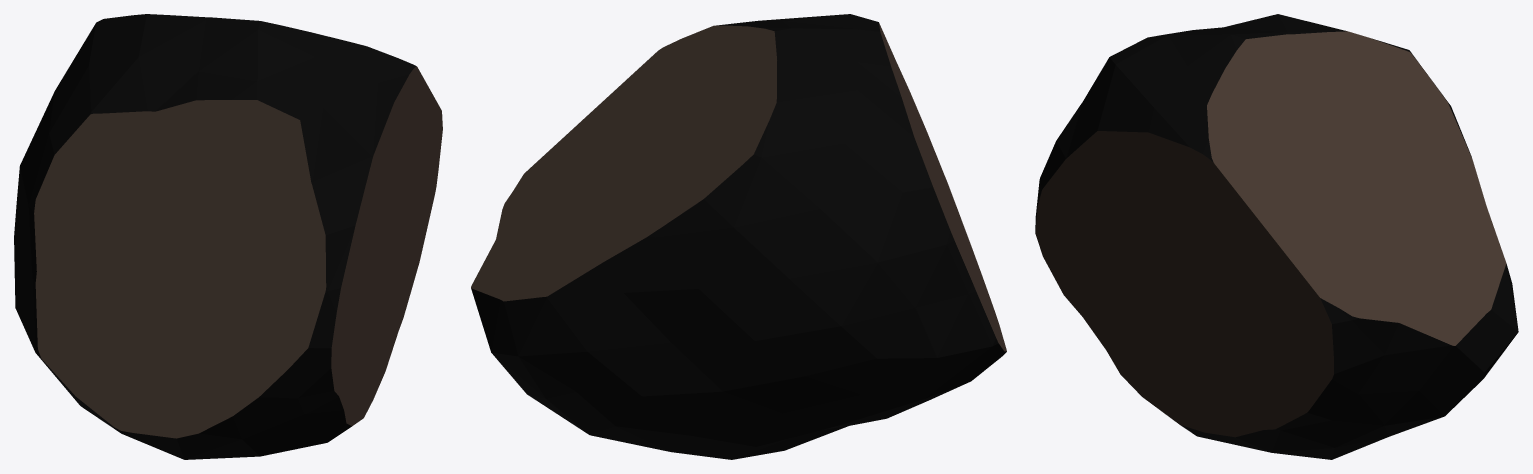
Rendered from DISASTER_02_MeteorFragment.obj.
The picture shows the model from 3 angles, left to right: view 1: azimuth 30°, elevation 25°; view 2: azimuth 150°, elevation 25°; view 3: azimuth 270°, elevation 25°; orthographic projection. The views are drawn at different scales.
Parts seen in each view (by area): view 1: DISASTER_02_MeteorFragment_Fragment; view 2: DISASTER_02_MeteorFragment_Fragment; view 3: DISASTER_02_MeteorFragment_Fragment.
Part boxes in pixels (x1,y1,x2,y2): DISASTER_02_MeteorFragment_Fragment: [14, 14, 442, 459]; DISASTER_02_MeteorFragment_Fragment: [471, 14, 1006, 459]; DISASTER_02_MeteorFragment_Fragment: [1035, 14, 1518, 459].
Size of the model in its own units: 0.9516 by 0.8443 by 0.9506.
